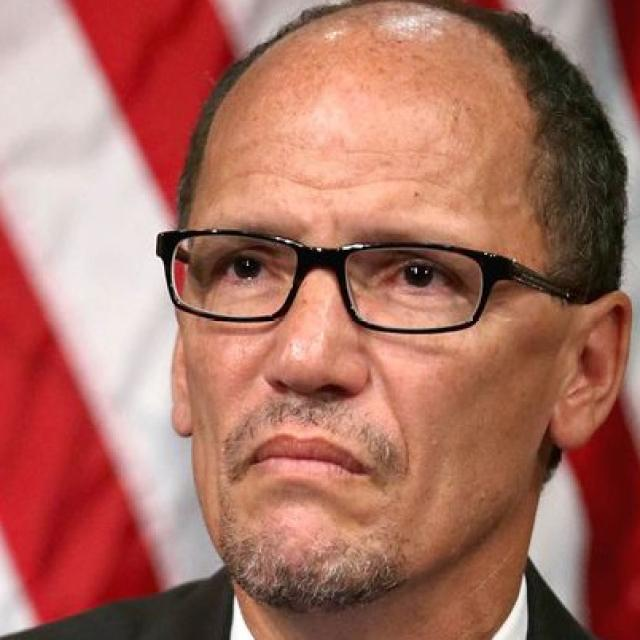Depress: (174, 86, 568, 615)
